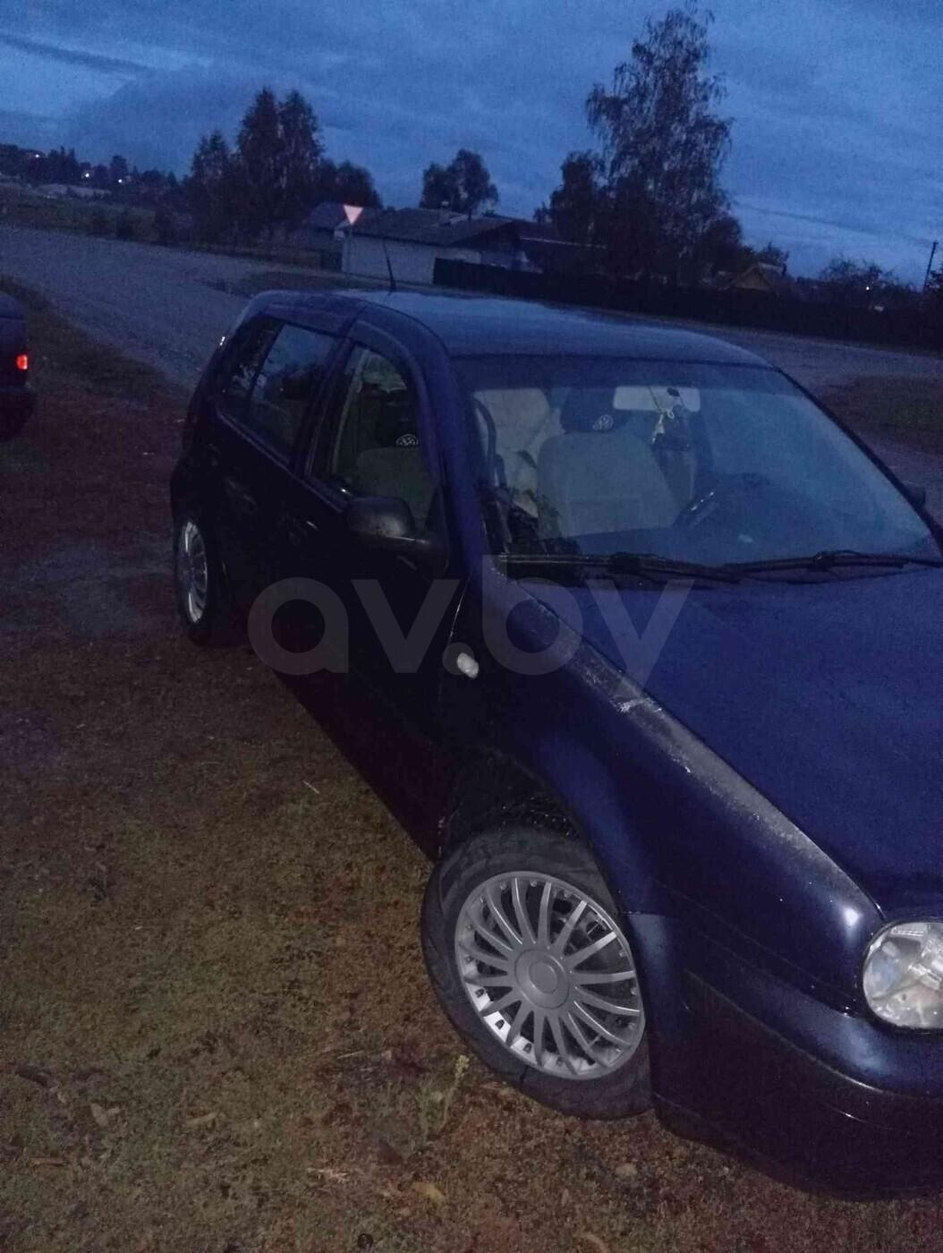Golf_1997-2006: (163, 273, 943, 1178)
